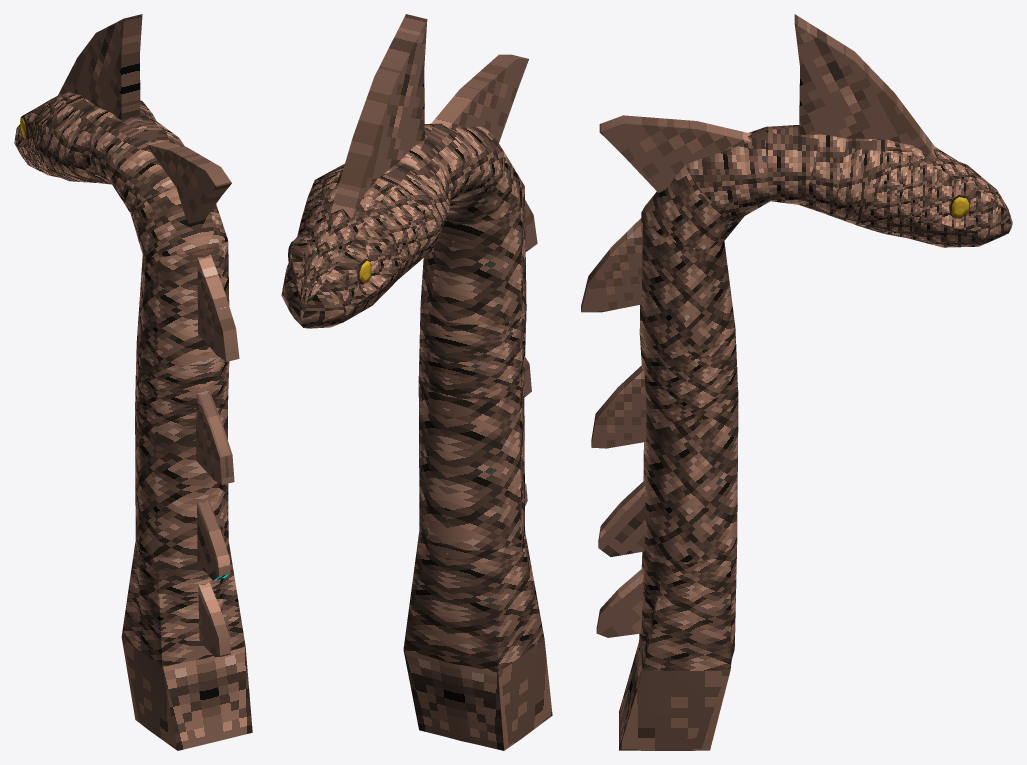
The model's file is ship_figure_head_00.gltf.
3 views of the same model, side by side, from view 1: azimuth 30°, elevation 25°; view 2: azimuth 150°, elevation 25°; view 3: azimuth 270°, elevation 25° (orthographic). The views are drawn at different scales.
Parts seen in each view (by area): view 1: ship_figure_head_00; view 2: ship_figure_head_00; view 3: ship_figure_head_00.
Boxes of the visible parts, x1=… form: ship_figure_head_00: x1=14, y1=14, x2=252, y2=750; ship_figure_head_00: x1=281, y1=14, x2=552, y2=750; ship_figure_head_00: x1=581, y1=14, x2=1012, y2=750.
Bounding box in the file's own units: 1.18 × 6.41 × 3.52.
Materials: 1 (1 with a texture image).
